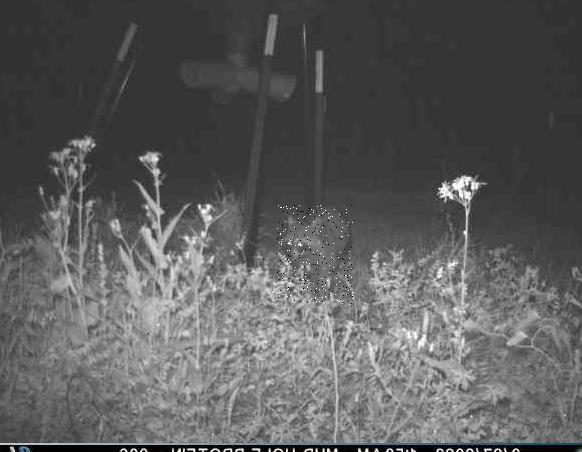Raccoon: (276, 206, 352, 306)
